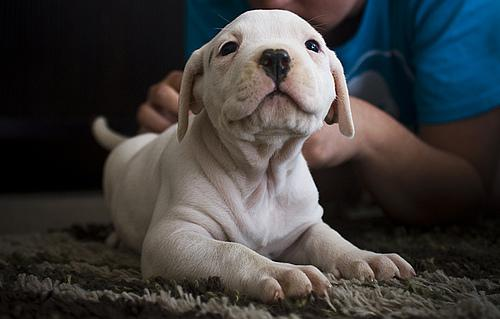dog-american_bulldog: (176, 8, 352, 142)
